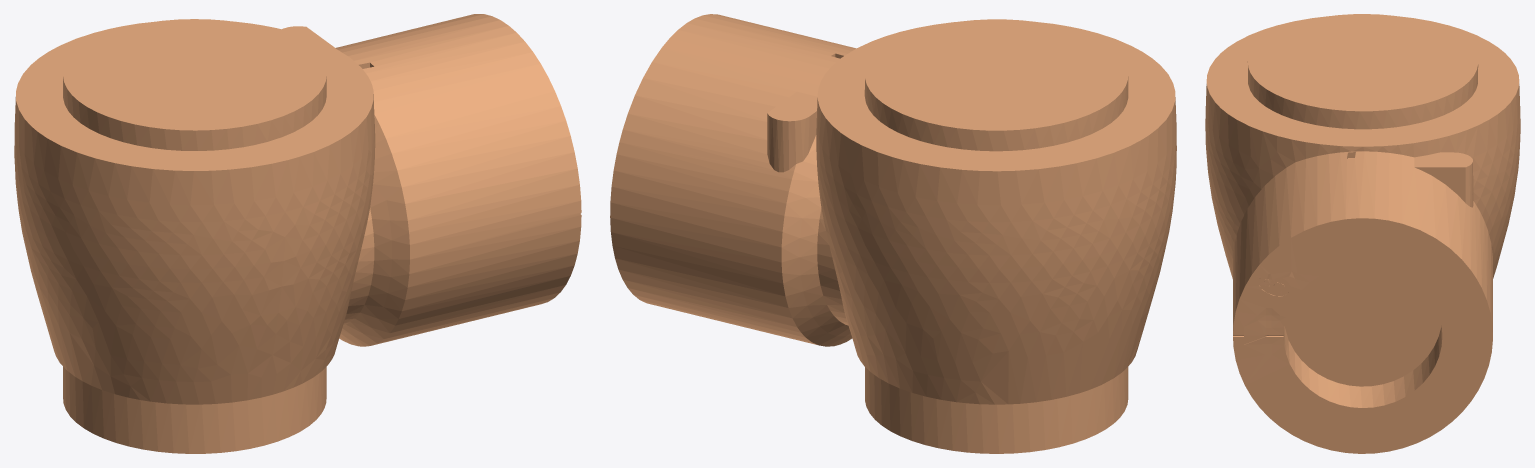
3 renders of one model, left to right at view 1: azimuth 30°, elevation 25°; view 2: azimuth 150°, elevation 25°; view 3: azimuth 270°, elevation 25°, orthographic. The views are drawn at different scales.
Parts seen in each view (by area): view 1: /link_5/link_5-mesh/0; view 2: /link_5/link_5-mesh/0; view 3: /link_5/link_5-mesh/0.
Boxes of the visible parts, <box> form: /link_5/link_5-mesh/0: <box>14,14,581,453</box>; /link_5/link_5-mesh/0: <box>610,14,1176,453</box>; /link_5/link_5-mesh/0: <box>1205,14,1520,453</box>.
Bounding box in the file's own units: 0.119 × 0.0785 × 0.0794.
